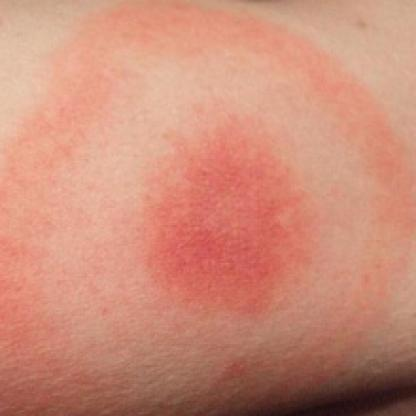Tick: (2, 0, 415, 413)
